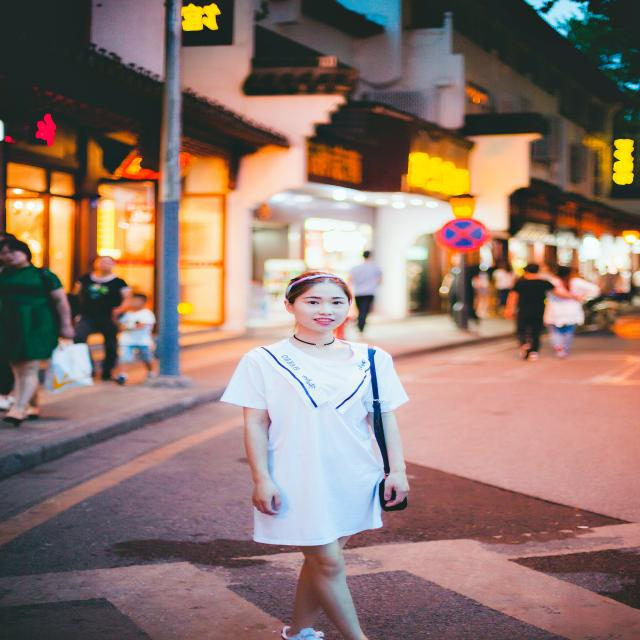adult: (239, 273, 404, 640), (0, 239, 76, 422)
